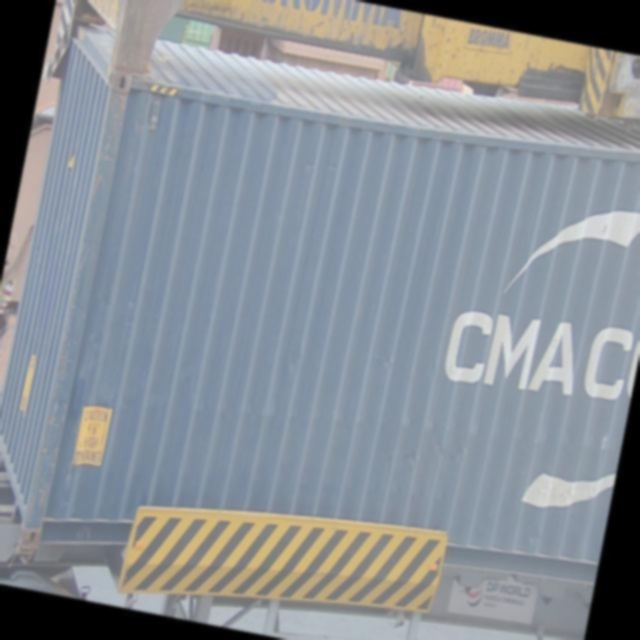Dent: (393, 423, 465, 481)
